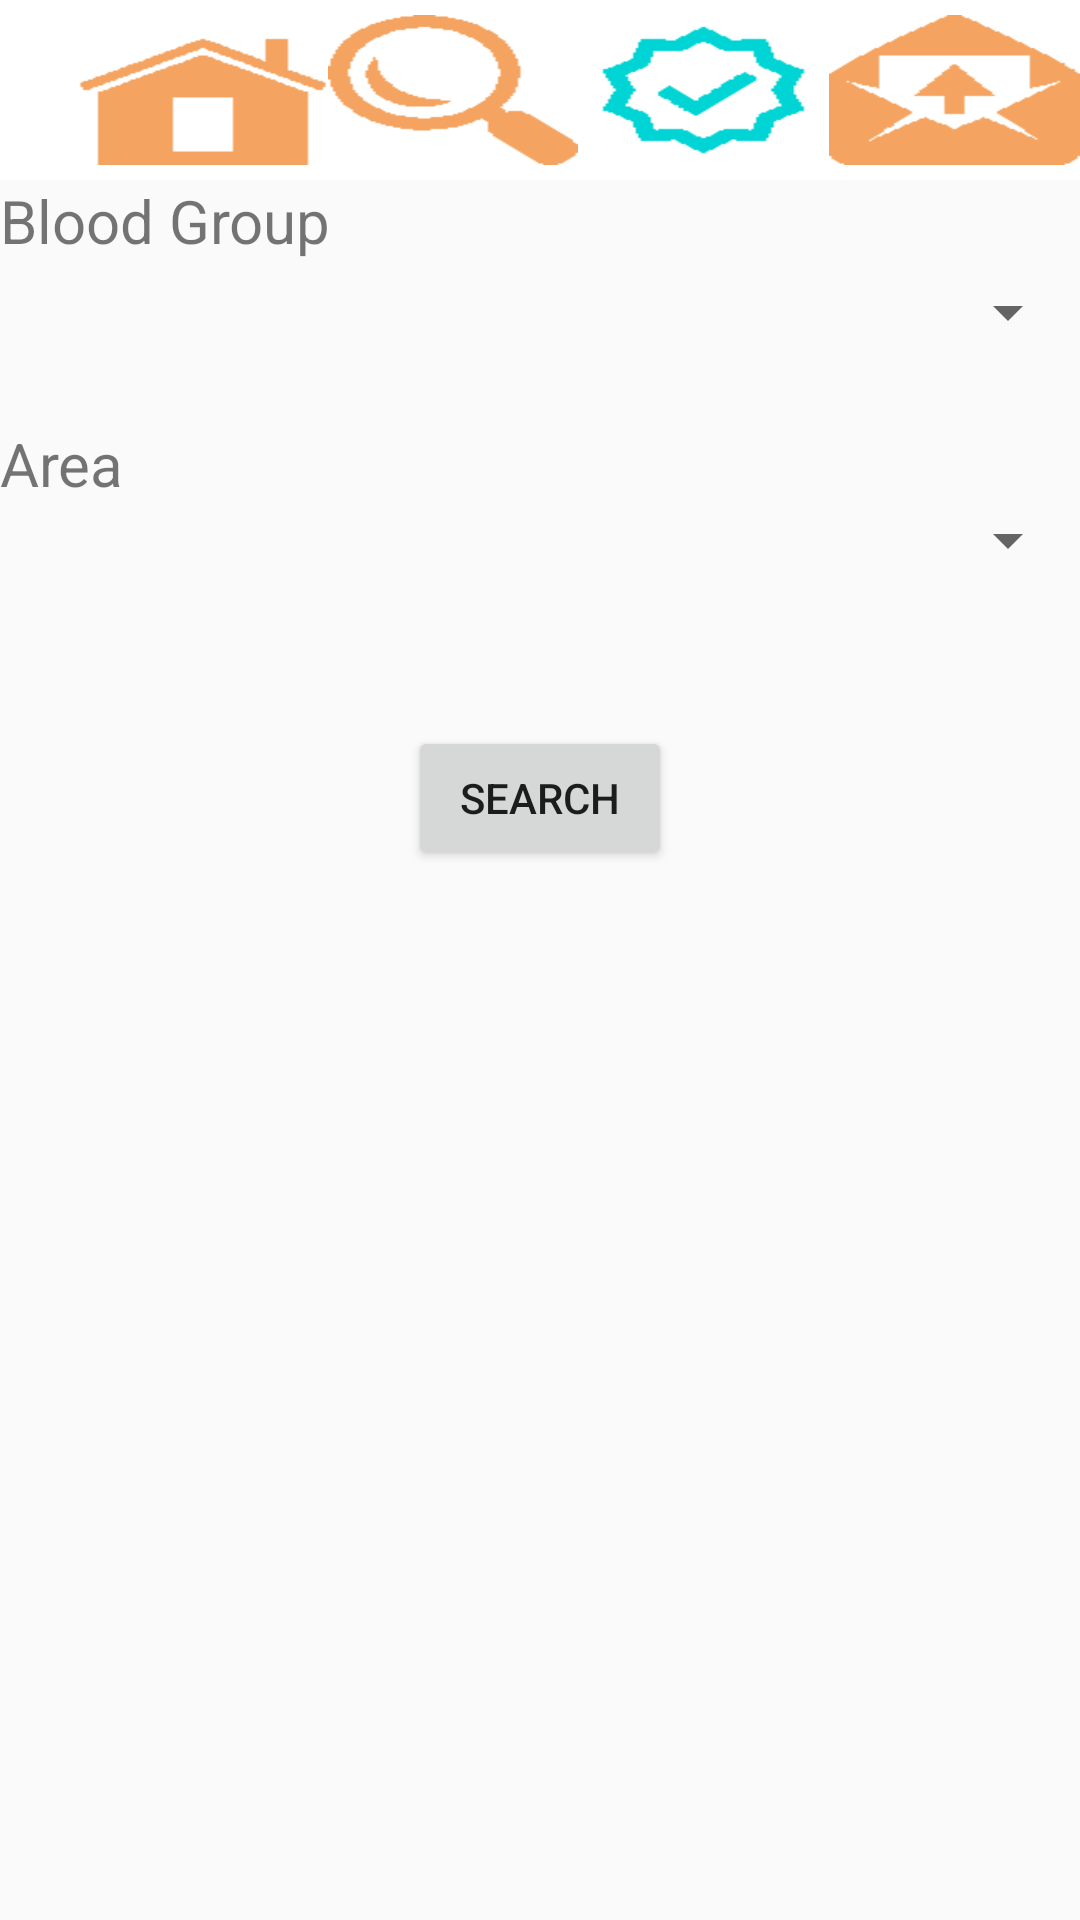

Icons on this 1080px×1920px Android screen, each with the point to tap as point (x, y):
feedback: point (954, 90)
hom: point (203, 101)
ser: point (453, 90)
